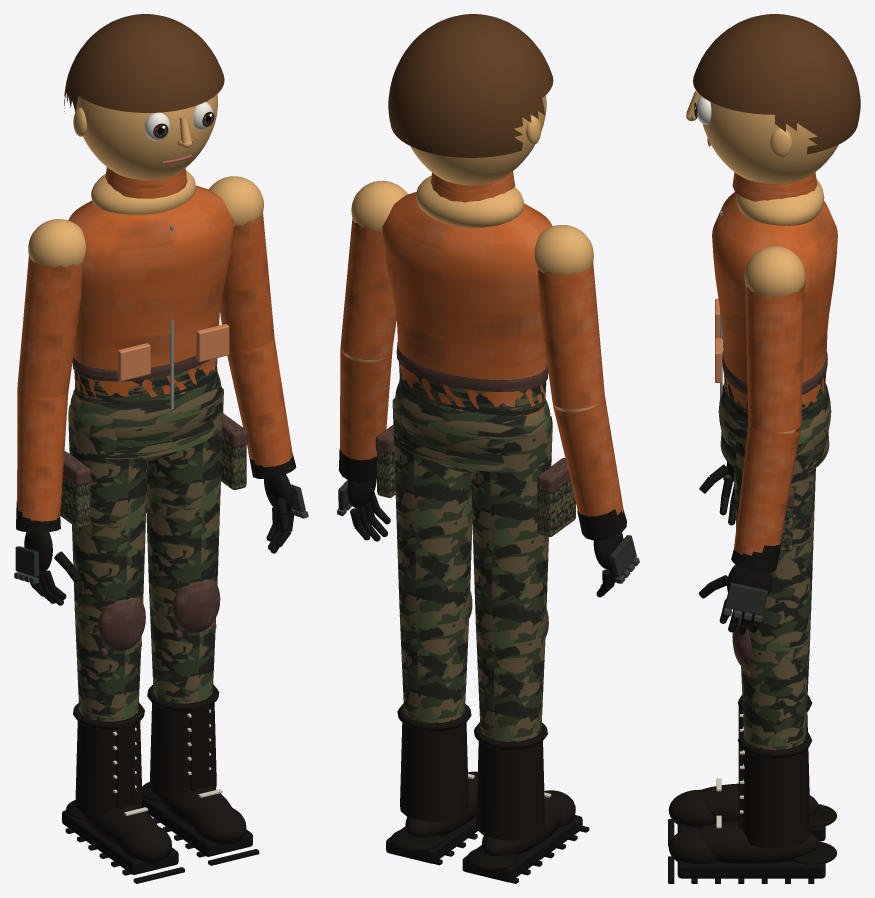
The model's file is 03-pantalon-tactique.glb.
3 renders of one model, left to right at view 1: azimuth 30°, elevation 25°; view 2: azimuth 150°, elevation 25°; view 3: azimuth 270°, elevation 25°, orthographic. The views are drawn at different scales.
Bounding box in the file's own units: 0.6344 × 1.77 × 0.3715.
25 materials, 4 textured.
